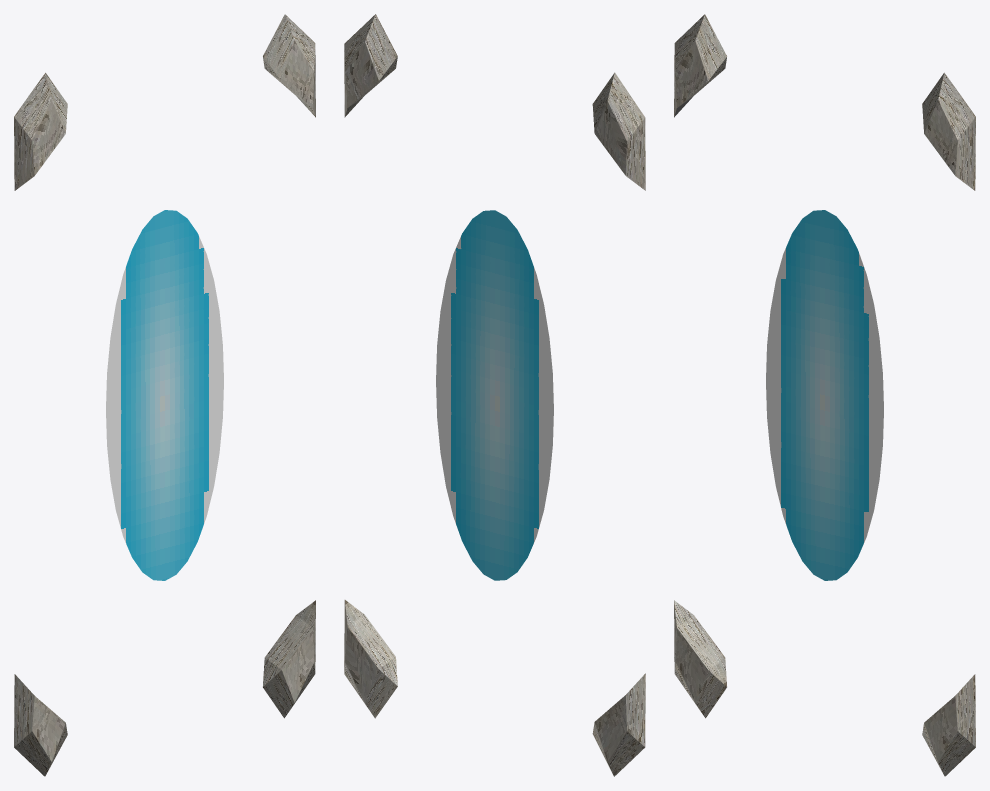
The model's file is imps_pedestal_rift_drained.obj.
3 renders of one model, left to right at view 1: azimuth 30°, elevation 25°; view 2: azimuth 150°, elevation 25°; view 3: azimuth 330°, elevation 25°, orthographic.
Visible parts, largest first — view 1: Circle, Torus; view 2: Circle, Torus; view 3: Circle, Torus.
Part boxes in pixels (left/top/right/bottom): Circle: left=106, top=210, right=223, bottom=580; Torus: left=14, top=14, right=315, bottom=776; Circle: left=436, top=210, right=553, bottom=580; Torus: left=344, top=14, right=645, bottom=776; Circle: left=766, top=210, right=883, bottom=580; Torus: left=674, top=14, right=975, bottom=776.
Size of the model in its own units: 0.6375 by 1.42 by 0.0646.
